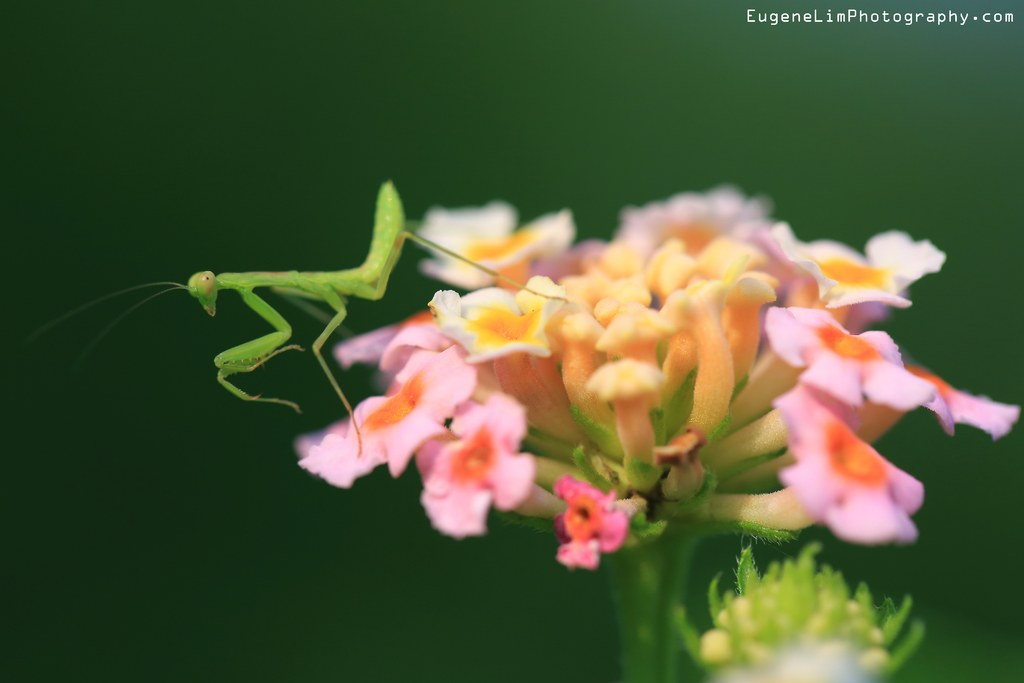insect: (300, 179, 1020, 572), (27, 181, 570, 459), (674, 562, 927, 682)
